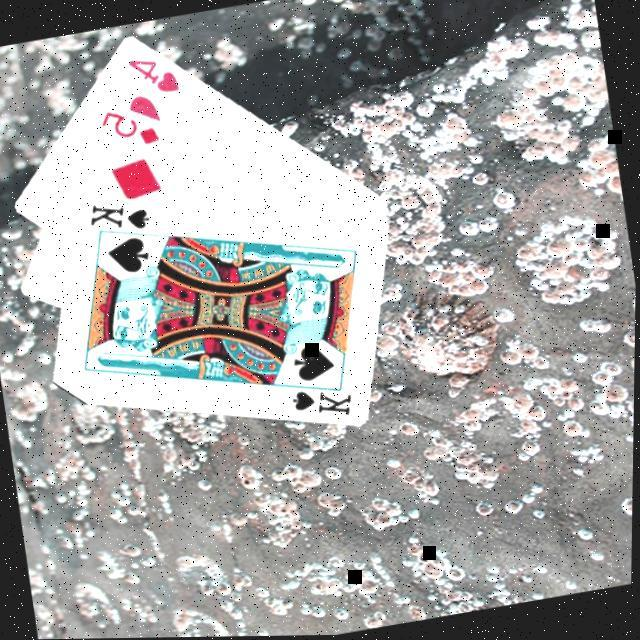4H: (121, 47, 182, 102)
5D: (94, 99, 163, 155)
KS: (282, 371, 357, 428), (82, 191, 154, 240)
